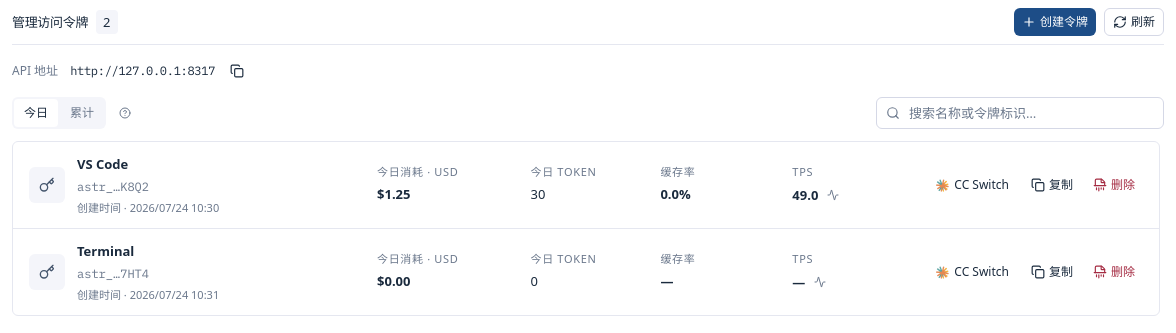
AccessTokenManager › switches all usage periods together and keeps token details and actions visible
The image size is (1176, 333).
Expected: the element with test id "access-token-row" shows "创建时间", left=77, top=200, right=121, bottom=215
Expected: the element with test id "access-token-row" shows "CC Switch", left=924, top=171, right=1019, bottom=199
Click the radio button labelled "累计" at (82, 113), box left=60, top=99, right=104, bottom=127
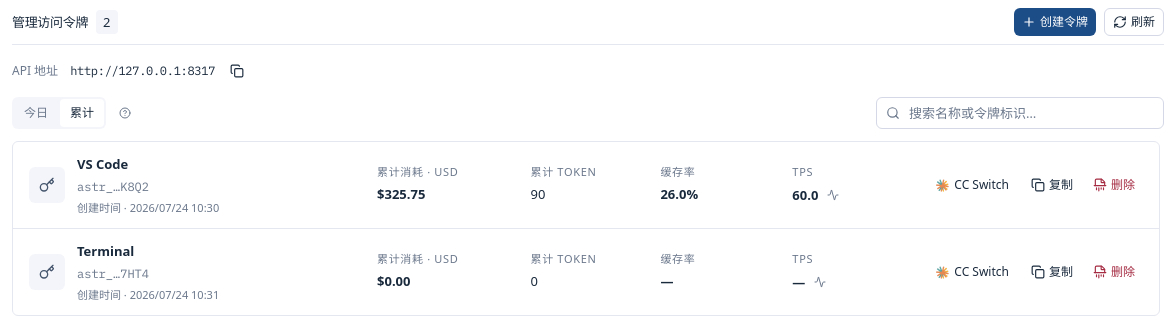
Expected: the element with test id "access-token-row" shows "创建时间", left=77, top=200, right=121, bottom=215
Expected: the text with test id "access-token-row" no longer shows "今日 Token"
